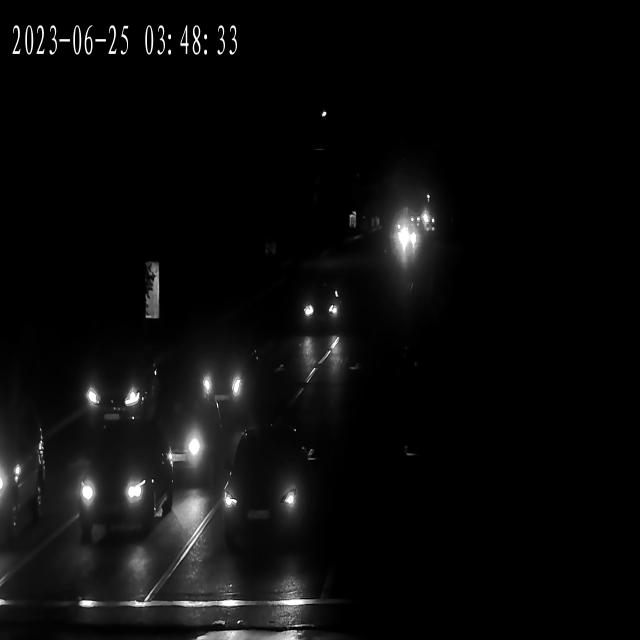Car: (57, 423, 175, 548), (217, 439, 310, 543), (138, 398, 223, 481), (74, 354, 159, 425), (0, 412, 43, 535), (192, 344, 251, 400), (292, 281, 340, 326), (395, 228, 420, 252), (418, 205, 436, 231), (400, 210, 414, 228)
